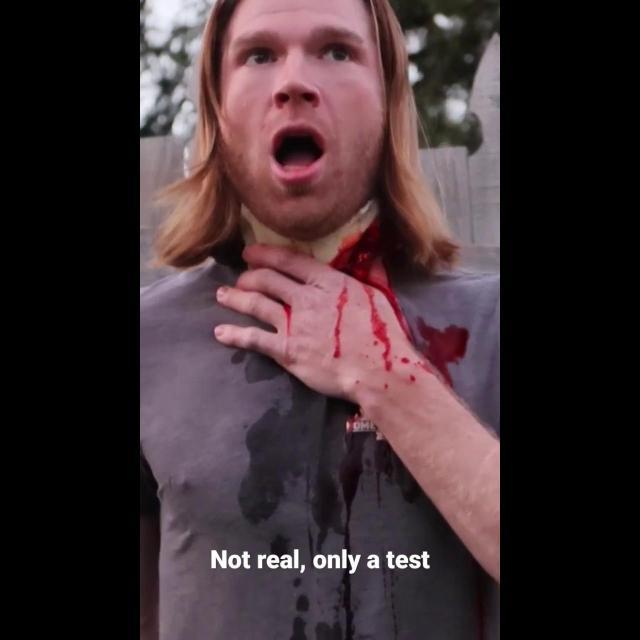blood: (330, 218, 412, 342), (358, 282, 424, 372), (418, 318, 469, 387), (333, 284, 350, 359), (282, 302, 292, 338)
